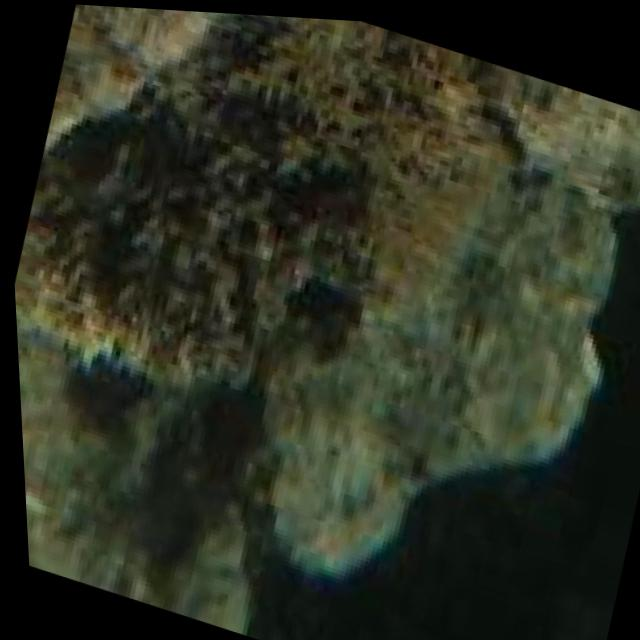Dead Coral: (0, 0, 533, 490)
